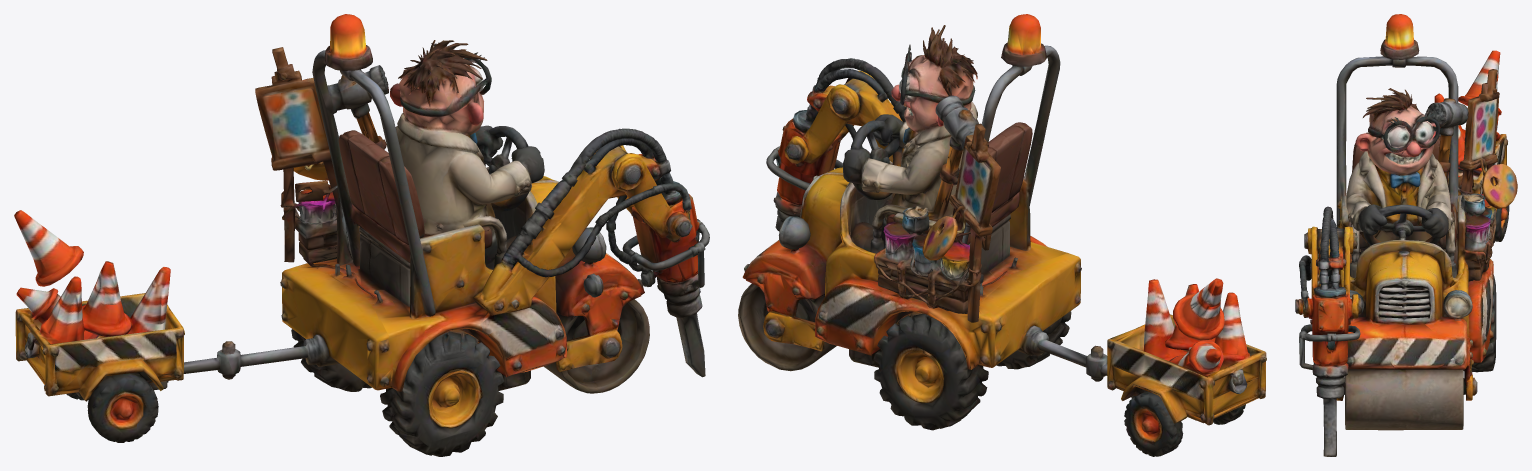
Rendered from pothole.glb.
3 views of the same model, side by side, from view 1: azimuth 30°, elevation 25°; view 2: azimuth 150°, elevation 25°; view 3: azimuth 270°, elevation 25° (orthographic). The views are drawn at different scales.
Bounding box in the file's own units: 0.9798 × 0.6551 × 0.3986.
Materials: 1 (1 with a texture image).
